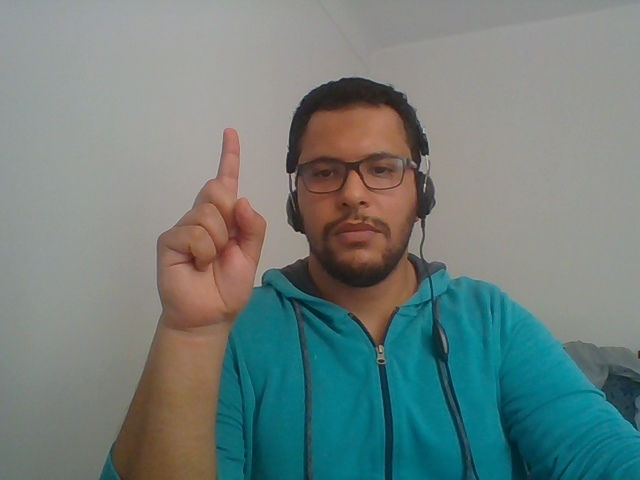handup: (134, 116, 280, 431)
